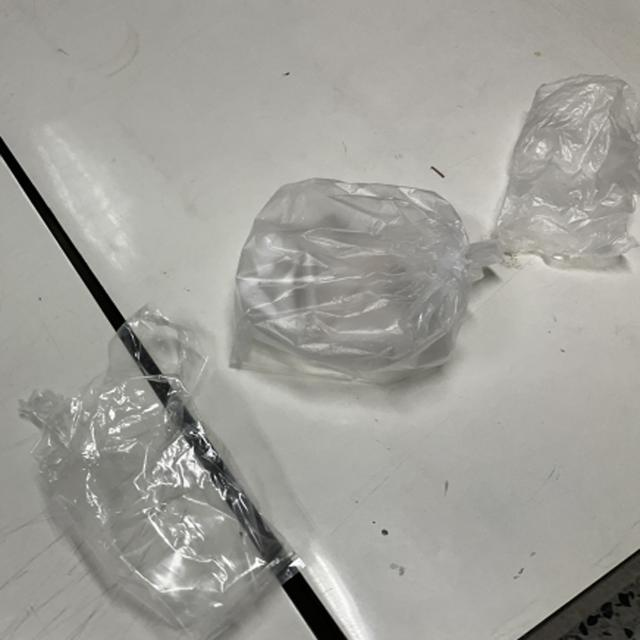Single-layer Plastic: (20, 305, 304, 640), (231, 179, 499, 382), (492, 75, 640, 268)
